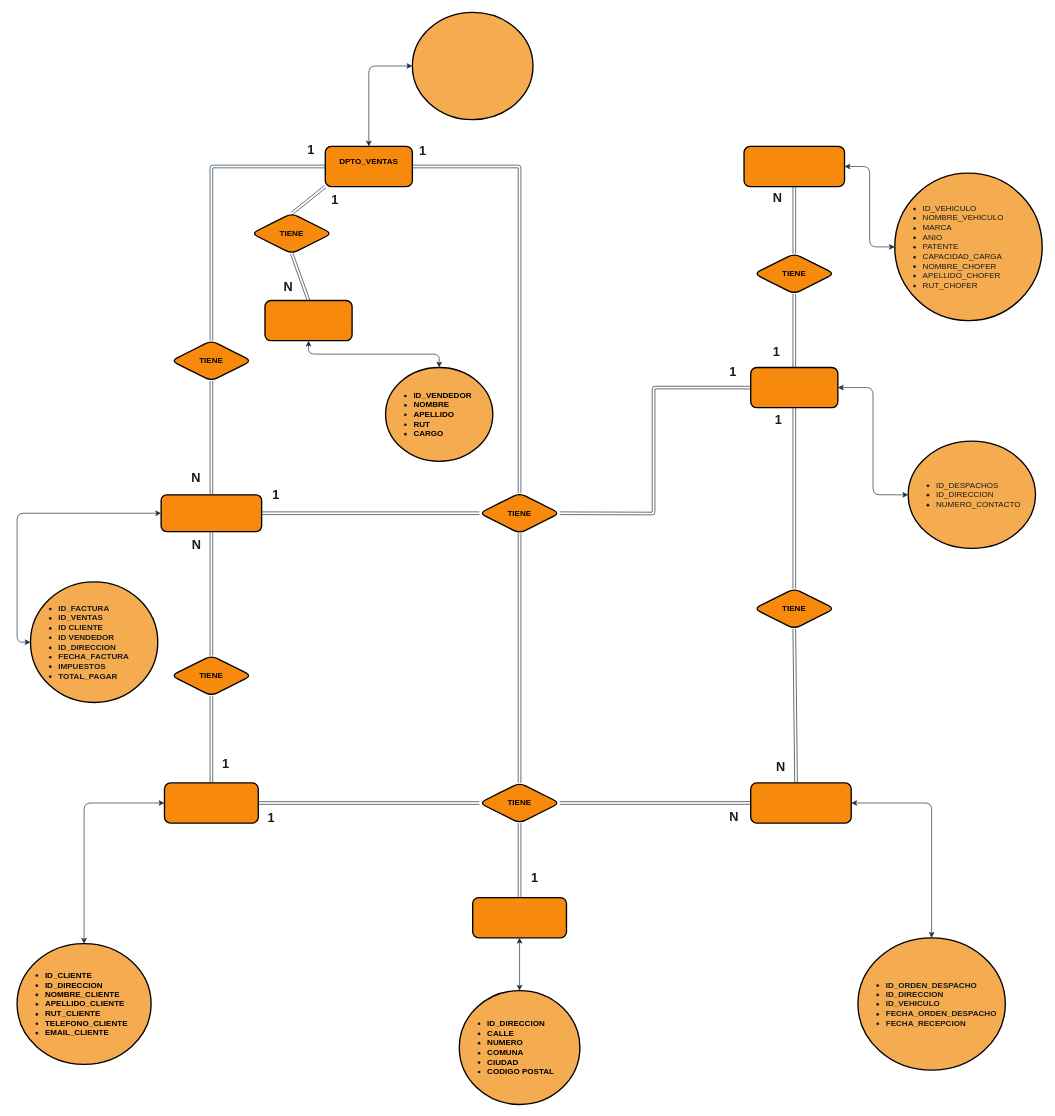
This 1055x1116 diagram has some shape labels left out. Here are the shapes that lost their labels. From the top down, the box of each, then its label:
(411, 11, 533, 120): ID_VENTAS ID_DIRECCION NUMERO_CONTACTO
(743, 145, 845, 187): VEHICULOS
(264, 299, 352, 341): VENDEDORES
(750, 366, 838, 408): DPTO_DESPACHOS
(160, 494, 262, 532): FACTURAS
(163, 782, 259, 823): CLIENTES
(750, 782, 852, 823): ORDEN_DESPACHO
(472, 897, 567, 938): DIRECCIONES
